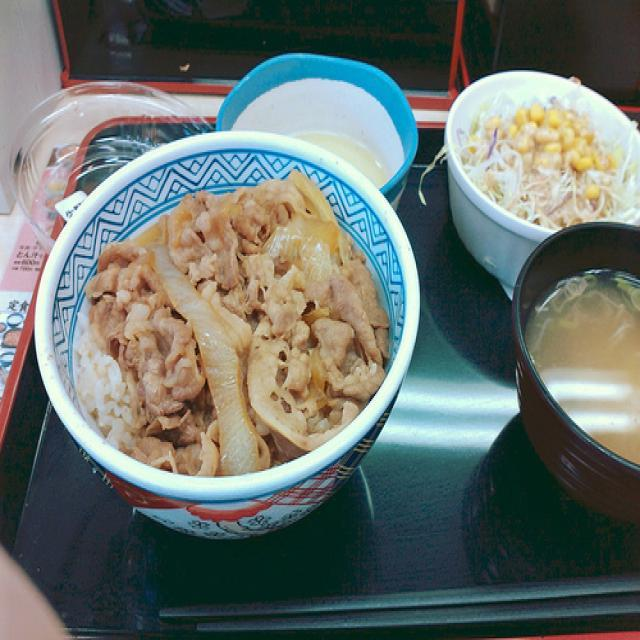Green Salad: (453, 84, 640, 227)
